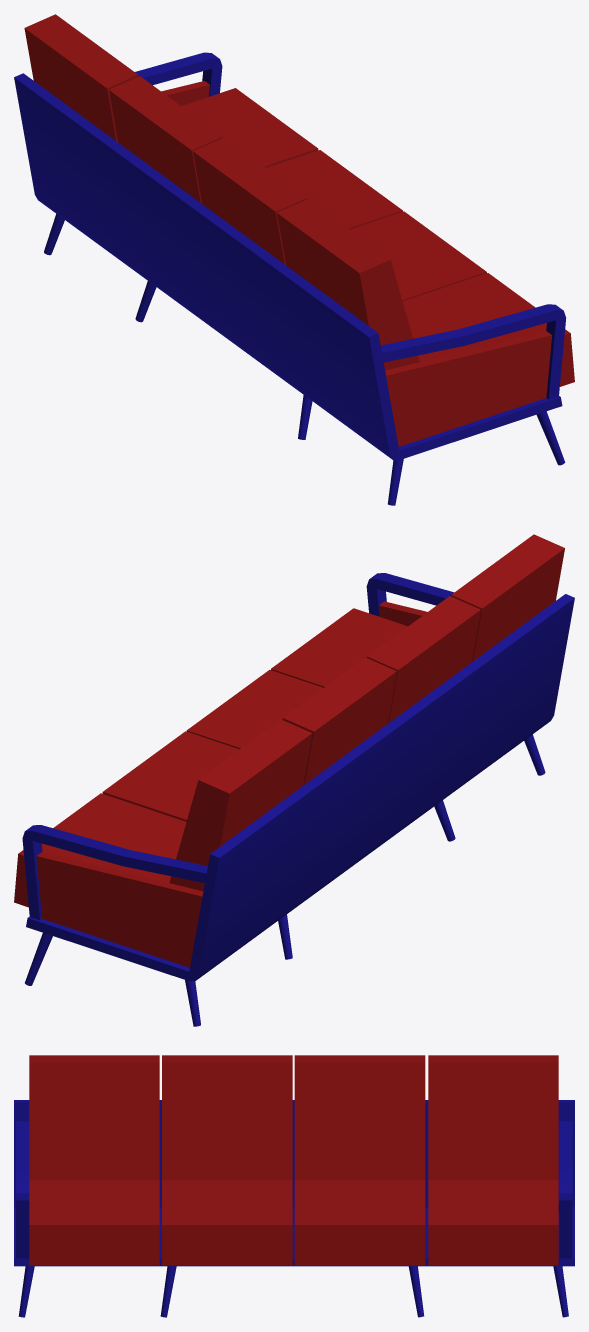
File: SM_Canape.FBX
The picture shows the model from 3 angles, top to bottom: view 1: azimuth 30°, elevation 25°; view 2: azimuth 150°, elevation 25°; view 3: azimuth 270°, elevation 25°; orthographic projection. The views are drawn at different scales.
Visible parts, largest first — view 1: SM_Canape; view 2: SM_Canape; view 3: SM_Canape.
Part boxes in pixels (bbox=[...]): SM_Canape: bbox=[14, 14, 574, 505]; SM_Canape: bbox=[14, 534, 574, 1026]; SM_Canape: bbox=[14, 1055, 574, 1317].
Size of the model in its own units: 90.35 by 97.17 by 258.
